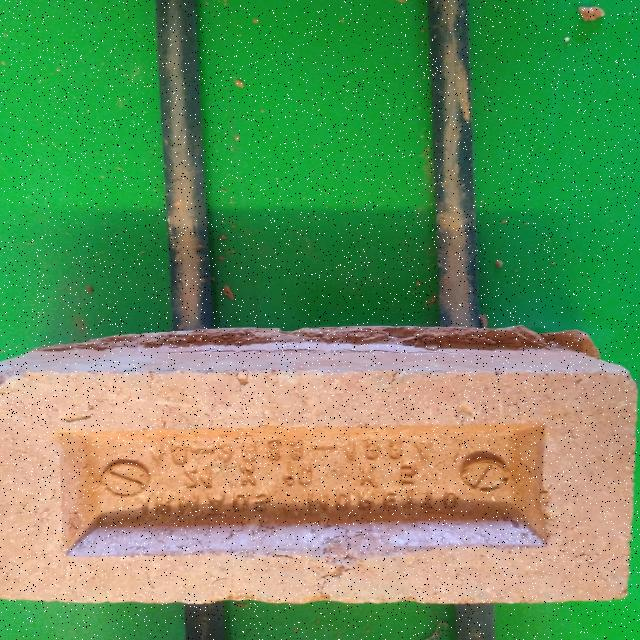bricks_ruin: (0, 325, 639, 606)
